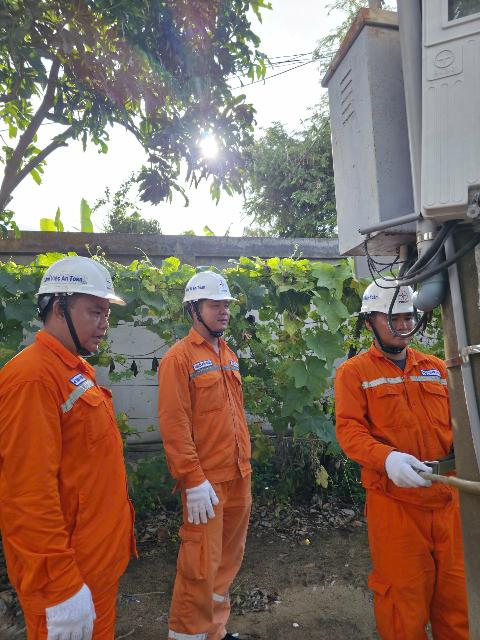gloves: (31, 584, 95, 640), (175, 471, 229, 531), (375, 445, 426, 494)
harness: (380, 439, 480, 492)
helmet: (28, 239, 129, 314), (345, 271, 435, 336), (167, 253, 223, 313)
